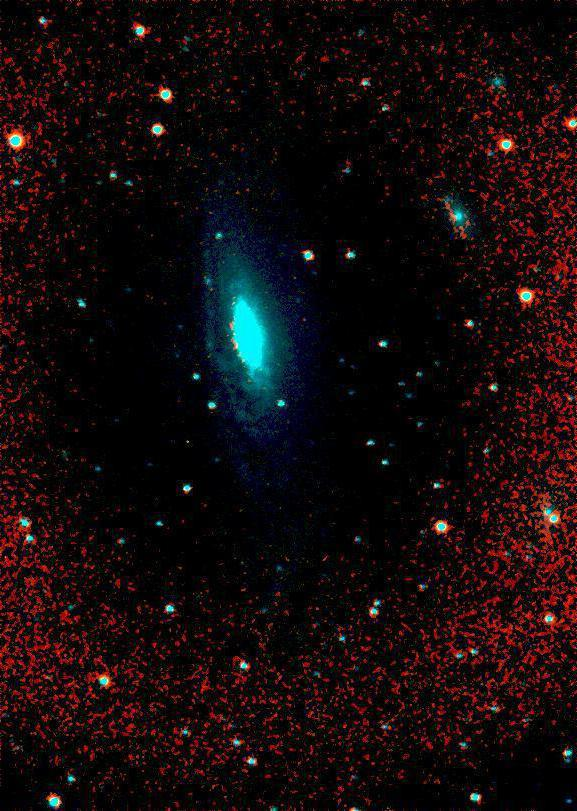star: (264, 285, 294, 315)
